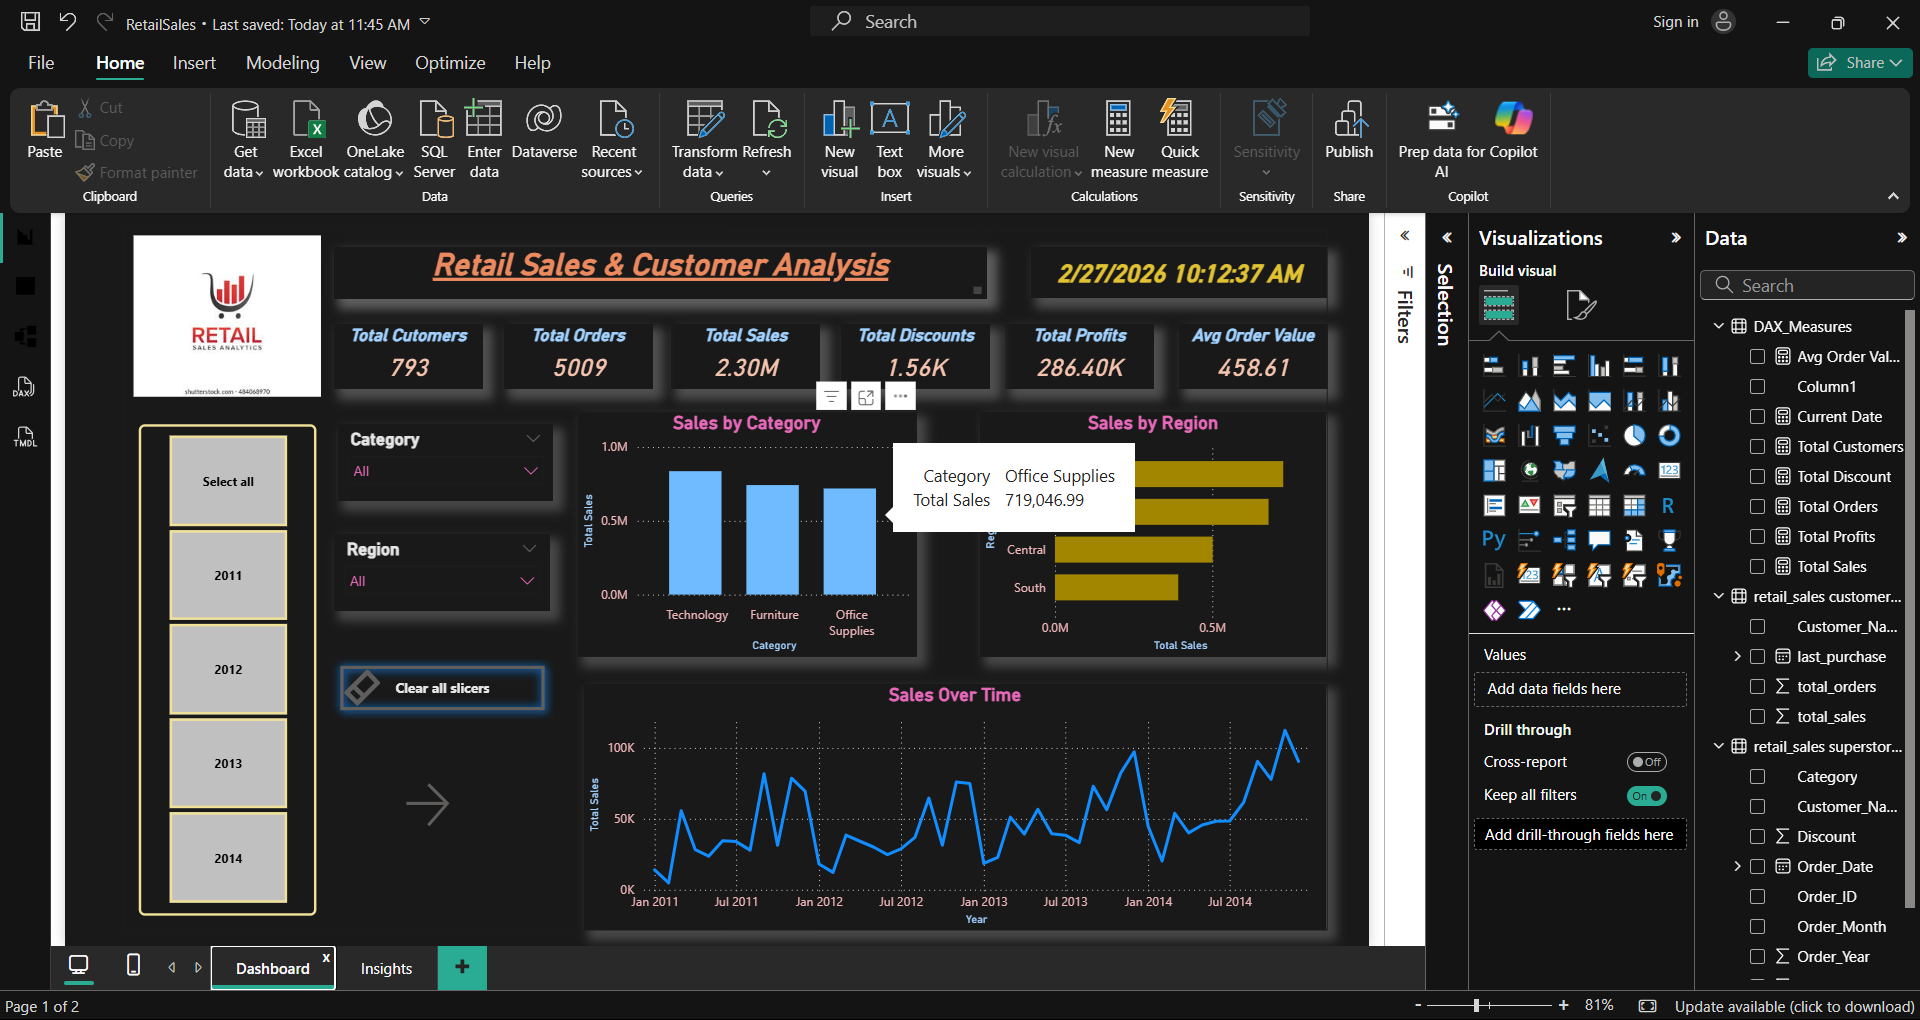

The page's visual inventory and layout, read from the dashboard file:
{"tool":"powerbi","page":{"name":"Dashboard","canvas":[1280,720],"ordinal":0},"visuals":[{"type":"card","title":"Total Cutomers","fields":{"Values":["DAX_Measures.Total Customers"]},"box":[263.8,109.2,146,63.8],"z":0,"group":"g1"},{"type":"card","title":"Total Orders","fields":{"Values":["DAX_Measures.Total Orders"]},"box":[430.7,109.2,146,63.8],"z":1000,"group":"g1"},{"type":"card","title":"Total Sales","fields":{"Values":["DAX_Measures.Total Sales"]},"box":[595.1,109.2,146,63.8],"z":2000,"group":"g1"},{"type":"card","title":"Total Discounts","fields":{"Values":["DAX_Measures.Total Discount"]},"box":[762,109.2,146,63.8],"z":3000,"group":"g1"},{"type":"card","title":"Total Profits","fields":{"Values":["DAX_Measures.Total Profits"]},"box":[922.7,109.2,146,63.8],"z":4000,"group":"g1"},{"type":"card","title":"Avg Order Value","fields":{"Values":["DAX_Measures.Avg Order Value"]},"box":[1093.3,109.2,146,63.8],"z":5000,"group":"g1"},{"type":"textbox","title":"Retail Sales  & Customer Analysis","box":[264.4,33.4,641.4,51.5],"z":6000,"group":"g1"},{"type":"lineChart","title":"Sales Over Time","fields":{"Y":["DAX_Measures.Total Sales"],"Category":["retail_sales superstores.Order_Date.Variation.Date Hierarchy.Year","retail_sales superstores.Order_Date.Variation.Date Hierarchy.Quarter","retail_sales superstores.Order_Date.Variation.Date Hierarchy.Month"]},"box":[509.2,462.6,728.8,241.7],"z":7000,"group":"g1"},{"type":"barChart","title":"Sales by Region","fields":{"Y":["DAX_Measures.Total Sales"],"Category":["retail_sales superstores.Region"]},"box":[898.2,195.1,339.9,240.5],"z":8000,"group":"g1"},{"type":"columnChart","title":"Sales by Category","fields":{"Category":["retail_sales superstores.Category"],"Y":["DAX_Measures.Total Sales"]},"box":[503.1,195.1,332.5,240.5],"z":9000,"group":"g1"},{"type":"slicer","title":"Category","fields":{"Values":["retail_sales superstores.Category"]},"box":[267.5,207.4,212.3,74.8],"z":10000,"group":"g1"},{"type":"slicer","title":"Category","fields":{"Values":["retail_sales superstores.Region"]},"box":[263.8,315.4,212.3,74.8],"z":11000,"group":"g1"},{"type":"actionButton","box":[261.4,435.6,218.4,61.4],"z":12000,"group":"g1"},{"type":"image","box":[57.7,17.2,203.7,168.1],"z":13000,"group":"g1"},{"type":"actionButton","box":[320.3,546,81,69.9],"z":14000,"group":"g1"},{"type":"card","title":"Total Cutomers","fields":{"Values":["DAX_Measures.Current Date"]},"box":[948.9,33.4,290.8,50.1],"z":15000,"group":"g1"},{"type":"slicer","title":"Category","fields":{"Values":["retail_sales superstores.Order_Year"]},"box":[72.4,207.4,174.2,482.2],"z":16000,"group":"g1"},{"type":"group","id":"g1","title":"Group 1","box":[57.7,17.2,1182,687.1],"z":16001}]}

Visuals, with their boxes on the page's 1280x720 design canvas (x1, y1, x2, y2). These are canvas units, not pixel positions in the 1920x1020 screenshot, which may show the page scaled, cropped or inside an application window:
"Total Cutomers" card: box=[264, 109, 410, 173]
"Total Orders" card: box=[431, 109, 577, 173]
"Total Sales" card: box=[595, 109, 741, 173]
"Total Discounts" card: box=[762, 109, 908, 173]
"Total Profits" card: box=[923, 109, 1069, 173]
"Avg Order Value" card: box=[1093, 109, 1239, 173]
"Retail Sales  & Customer Analysis" textbox: box=[264, 33, 906, 85]
"Sales Over Time" lineChart: box=[509, 463, 1238, 704]
"Sales by Region" barChart: box=[898, 195, 1238, 436]
"Sales by Category" columnChart: box=[503, 195, 836, 436]
"Category" slicer: box=[268, 207, 480, 282]
"Category" slicer: box=[264, 315, 476, 390]
actionButton: box=[261, 436, 480, 497]
image: box=[58, 17, 261, 185]
actionButton: box=[320, 546, 401, 616]
"Total Cutomers" card: box=[949, 33, 1240, 84]
"Category" slicer: box=[72, 207, 247, 690]
"Group 1" group: box=[58, 17, 1240, 704]
